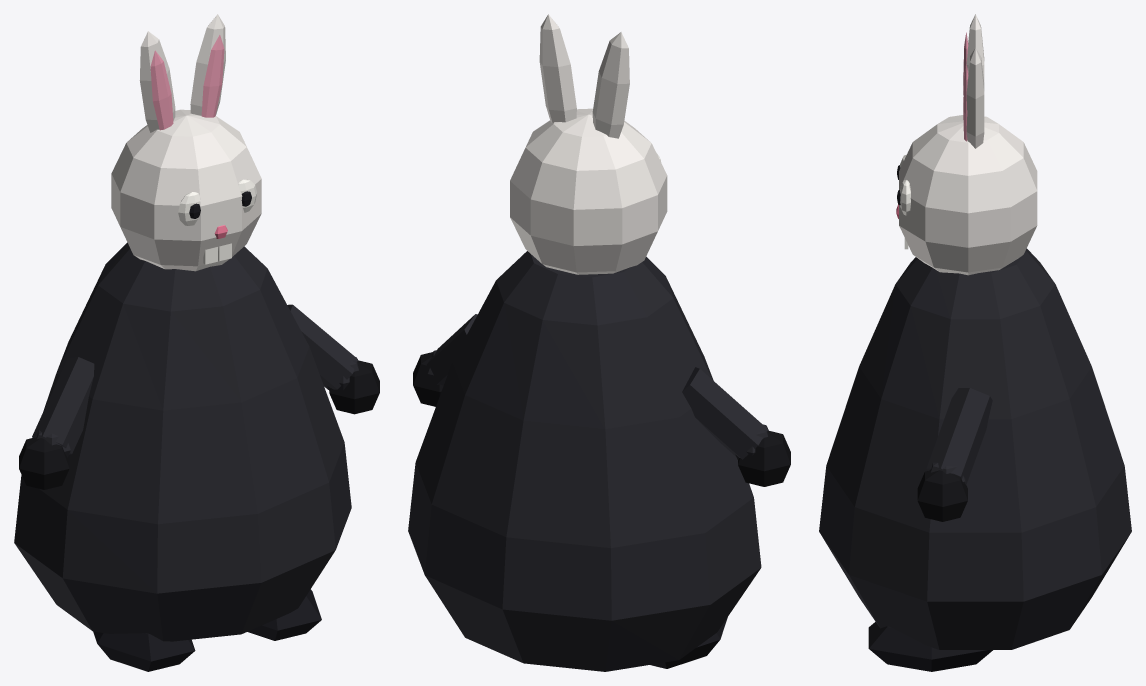
File: npc_ladron_conejo.glb
3 renders of one model, left to right at view 1: azimuth 30°, elevation 25°; view 2: azimuth 150°, elevation 25°; view 3: azimuth 270°, elevation 25°, orthographic. The views are drawn at different scales.
Parts seen in each view (by area): view 1: body_robber_black, head_mask_rabbit, arms_robber_black, legs_black, arms_glove_black (×2), head_mask_rabbit_ear (×2), face_white; view 2: body_robber_black, head_mask_rabbit, arms_robber_black, arms_glove_black (×2), legs_black; view 3: body_robber_black, head_mask_rabbit, arms_robber_black, legs_black, arms_glove_black.
Boxes of the visible parts, x1,y1,x2,y2 form: body_robber_black: [14, 242, 351, 641]; head_mask_rabbit: [111, 14, 261, 271]; arms_robber_black: [32, 304, 358, 457]; legs_black: [93, 589, 321, 671]; arms_glove_black (×2): [19, 360, 379, 489]; head_mask_rabbit_ear (×2): [150, 35, 224, 130]; face_white: [178, 179, 257, 264]; body_robber_black: [408, 251, 761, 671]; head_mask_rabbit: [510, 14, 667, 274]; arms_robber_black: [426, 314, 768, 459]; arms_glove_black (×2): [413, 352, 790, 486]; legs_black: [650, 617, 727, 668]; body_robber_black: [819, 248, 1131, 649]; head_mask_rabbit: [899, 14, 1037, 275]; arms_robber_black: [926, 388, 992, 484]; legs_black: [868, 622, 992, 671]; arms_glove_black: [917, 470, 967, 521].
Size of the model in its own units: 1.14 by 1.83 by 0.86.
